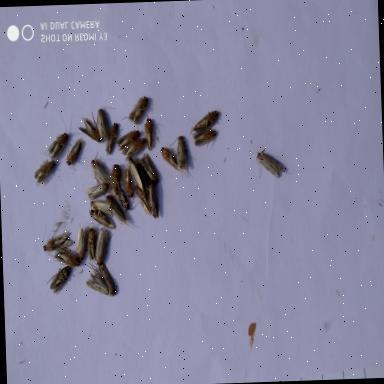pbw: (34, 218, 75, 260), (80, 258, 121, 298), (249, 144, 286, 182), (101, 192, 134, 232), (86, 195, 118, 236), (42, 262, 76, 298), (92, 101, 118, 147), (119, 93, 151, 130), (44, 124, 76, 160), (186, 105, 222, 136), (130, 180, 154, 226), (112, 121, 144, 155), (168, 136, 191, 182), (74, 114, 106, 147), (47, 243, 83, 272), (90, 224, 114, 267), (119, 161, 141, 207), (134, 152, 162, 188), (86, 152, 112, 190), (190, 124, 220, 156), (60, 137, 86, 173), (158, 142, 184, 178), (100, 119, 122, 160), (30, 156, 57, 188), (117, 136, 148, 162), (114, 183, 135, 219), (74, 224, 92, 265), (139, 114, 155, 159), (144, 180, 162, 220), (82, 180, 110, 204), (84, 223, 100, 265)
